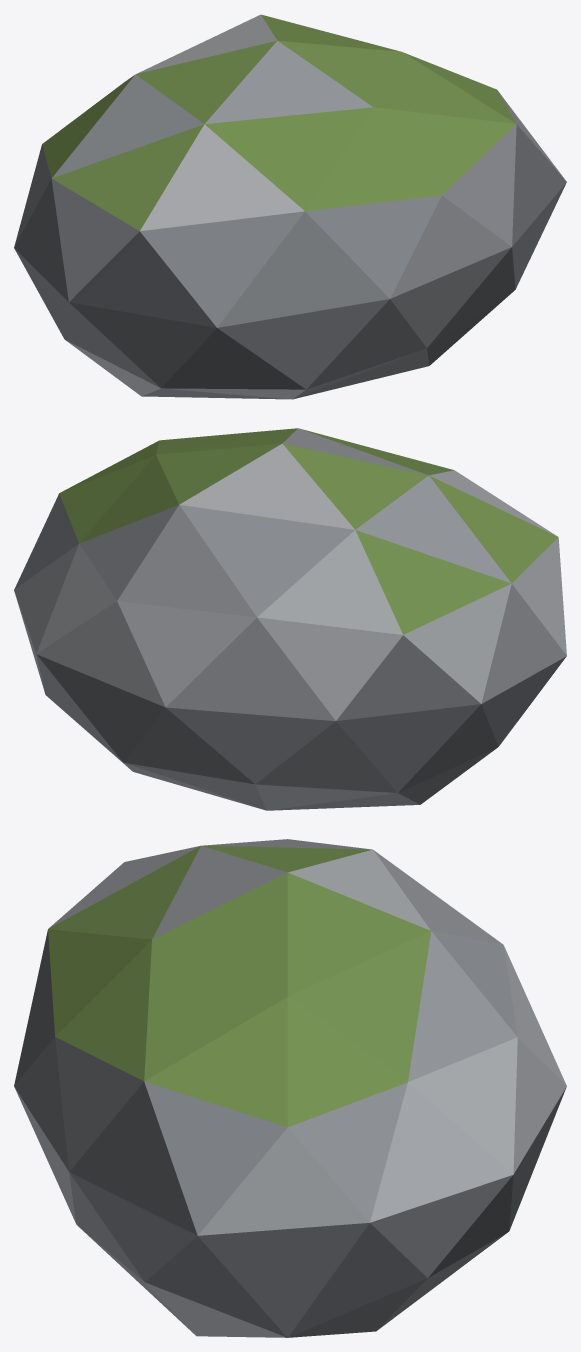
Rendered from rock_small.glb.
3 views of the same model, one above another, from view 1: azimuth 30°, elevation 25°; view 2: azimuth 150°, elevation 25°; view 3: azimuth 270°, elevation 25° (orthographic). The views are drawn at different scales.
Visible parts, largest first — view 1: rock_small; view 2: rock_small; view 3: rock_small.
Boxes of the visible parts, box(x1,y1,x2,y2) form: rock_small: box(14, 14, 566, 399); rock_small: box(14, 428, 566, 810); rock_small: box(14, 839, 566, 1337).
Bounding box in the file's own units: 0.6843 × 0.4352 × 0.5428.
Materials: 1 (1 with a texture image).
